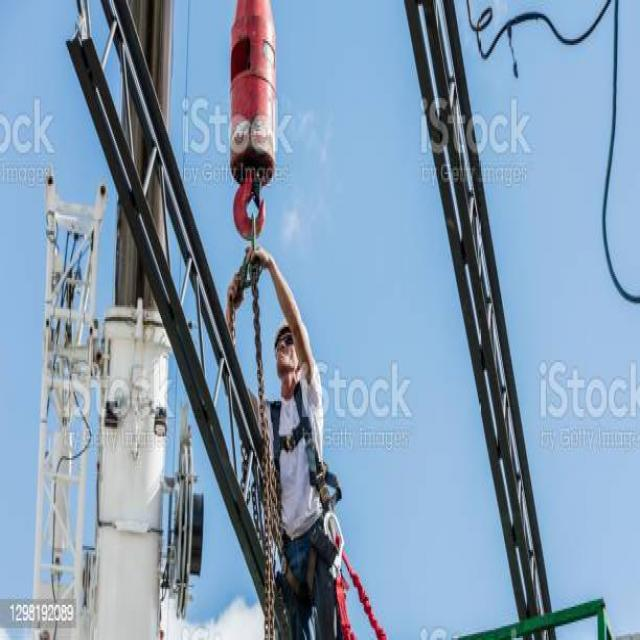belt: (256, 383, 346, 610)
